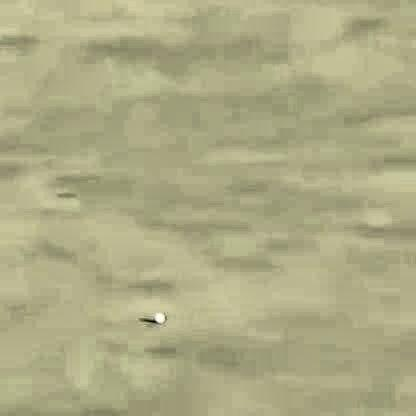golfball: (151, 307, 162, 320)
